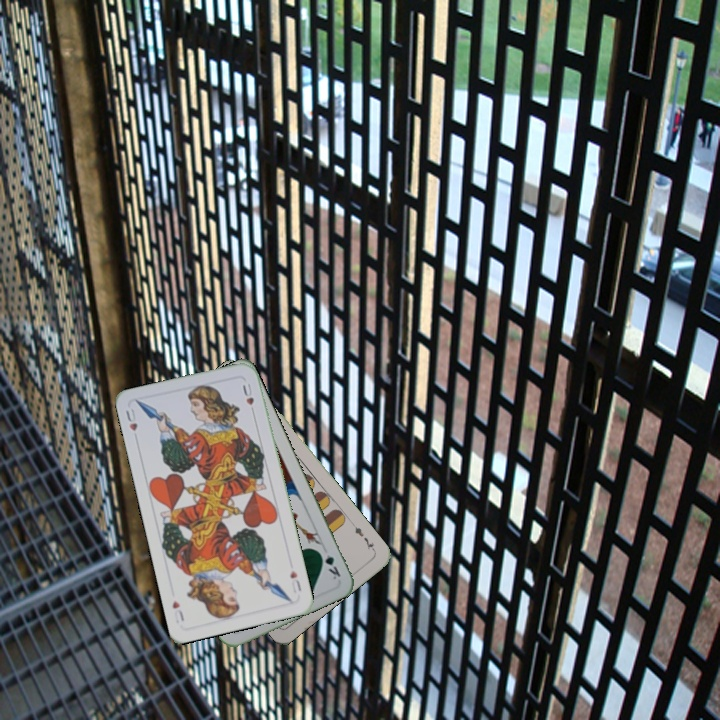E7: (349, 520, 378, 554)
GK: (315, 547, 343, 582)
HU: (286, 566, 304, 595), (122, 404, 140, 433)
